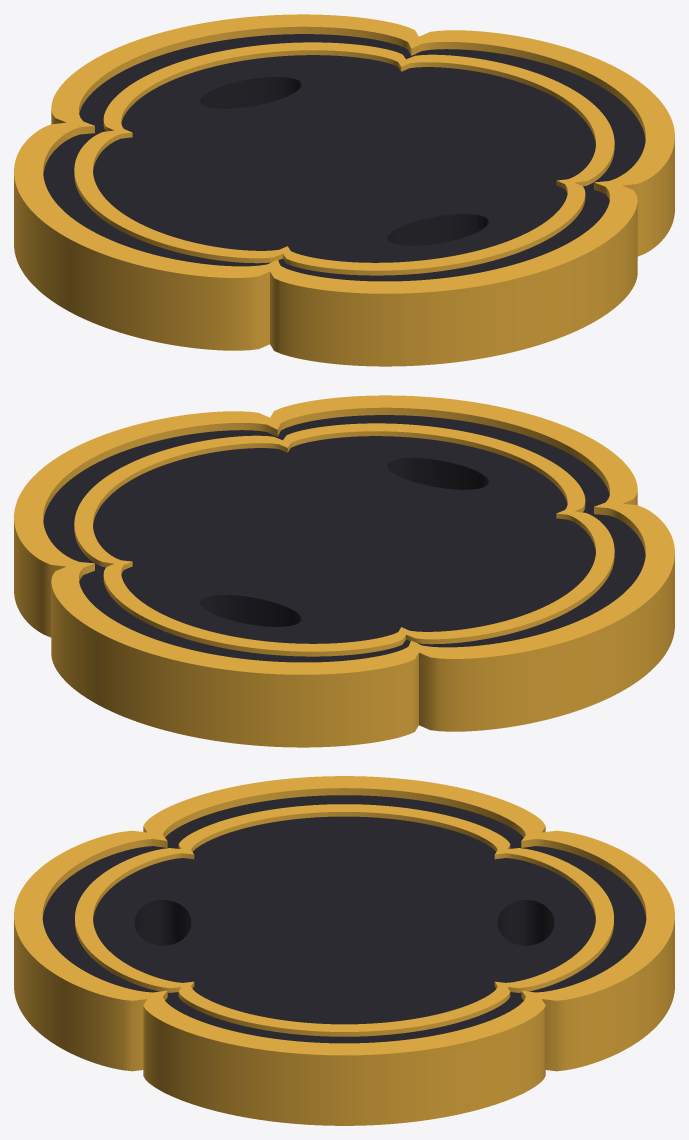
The model's file is MokkoGuard.fbx.
3 views of the same model, one above another, from view 1: azimuth 30°, elevation 25°; view 2: azimuth 150°, elevation 25°; view 3: azimuth 270°, elevation 25° (orthographic). The views are drawn at different scales.
Parts seen in each view (by area): view 1: MokkoCore, MokkoRim, MokkoInner; view 2: MokkoCore, MokkoRim, MokkoInner; view 3: MokkoCore, MokkoRim, MokkoInner.
Boxes of the visible parts, x1,y1,x2,y2 form: MokkoCore: (43,34,645,281); MokkoRim: (14,14,674,366); MokkoInner: (74,42,614,275); MokkoCore: (43,415,645,662); MokkoRim: (14,395,674,747); MokkoInner: (74,423,614,656); MokkoCore: (42,795,646,1043); MokkoRim: (14,776,674,1125); MokkoInner: (75,804,613,1036).
Size of the model in its own units: 0.51 by 0.06 by 0.51.
